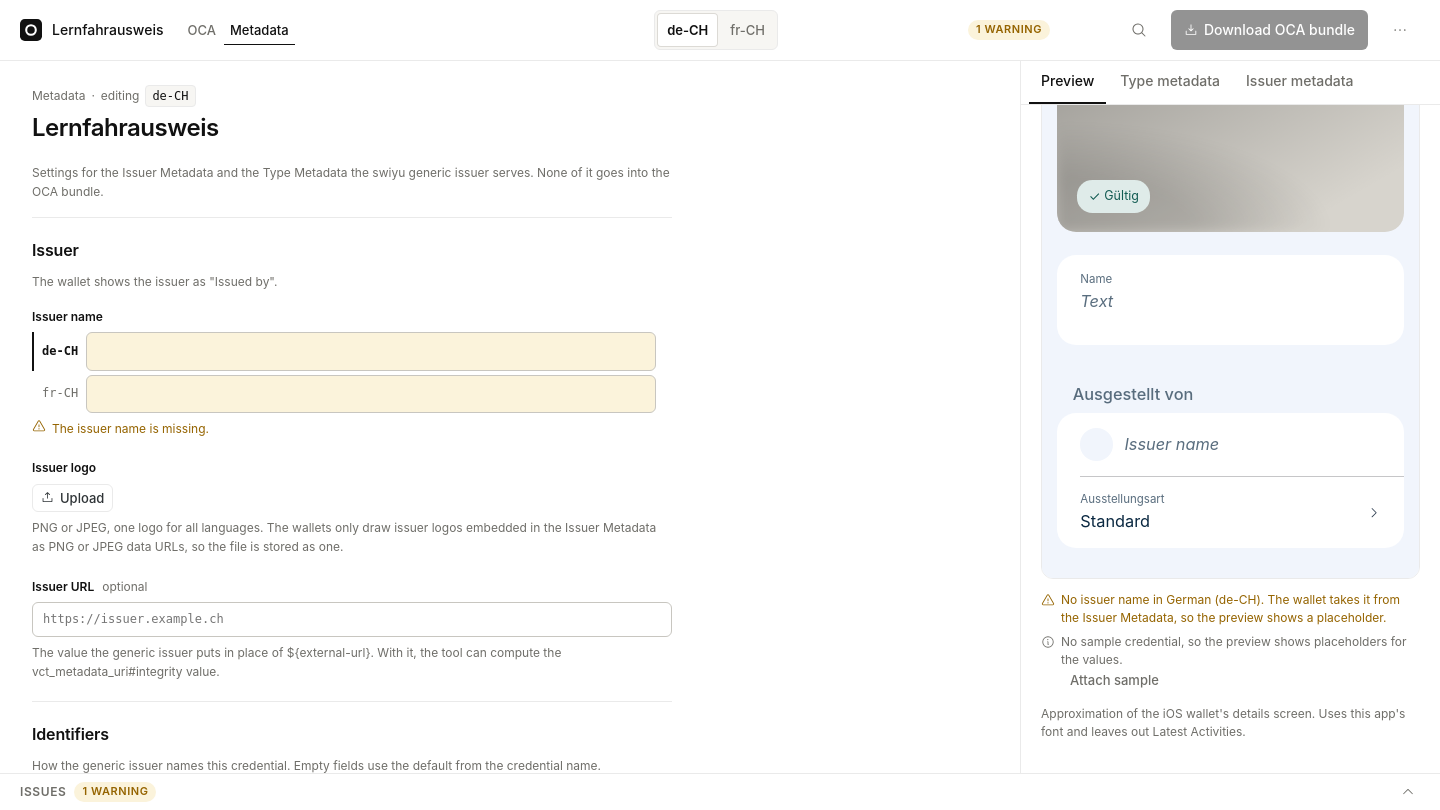
Test case: Metadata page › shows an error for an Issuer URL that is not https, and none when it is empty
(page scrolled)
Expected: the text "must be an https URL" is not shown
Type "http://issuer.example.ch" into the field labelled "Issuer URL optional".
click(352, 620); type("http://issuer.example.ch")  # box left=32, top=602, right=672, bottom=637
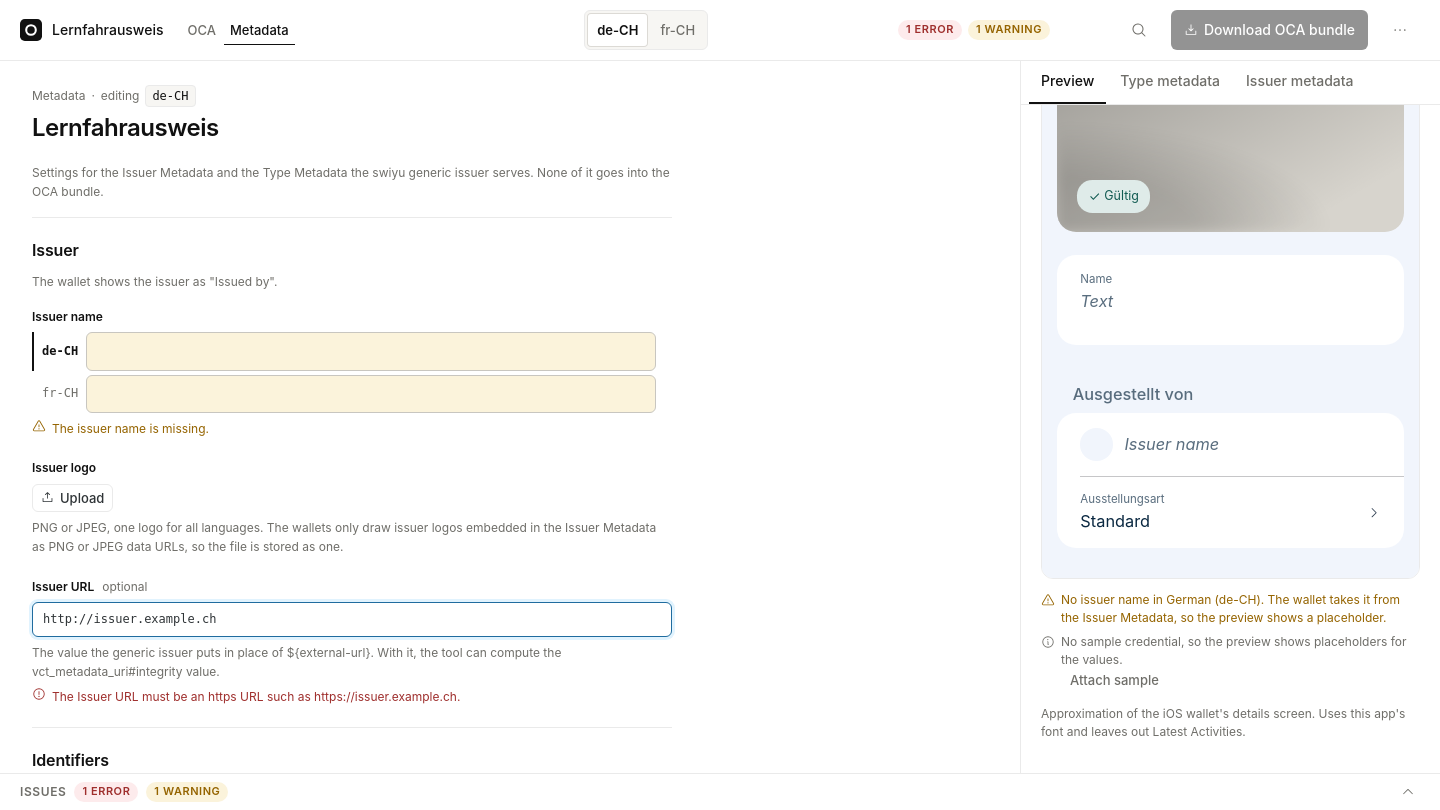
Expected: the text "The Issuer URL must be an https URL such as https://issuer.example.ch." is shown, left=32, top=687, right=460, bottom=704
Clear the field labelled "Issuer URL optional" at (352, 620), box left=32, top=602, right=672, bottom=637
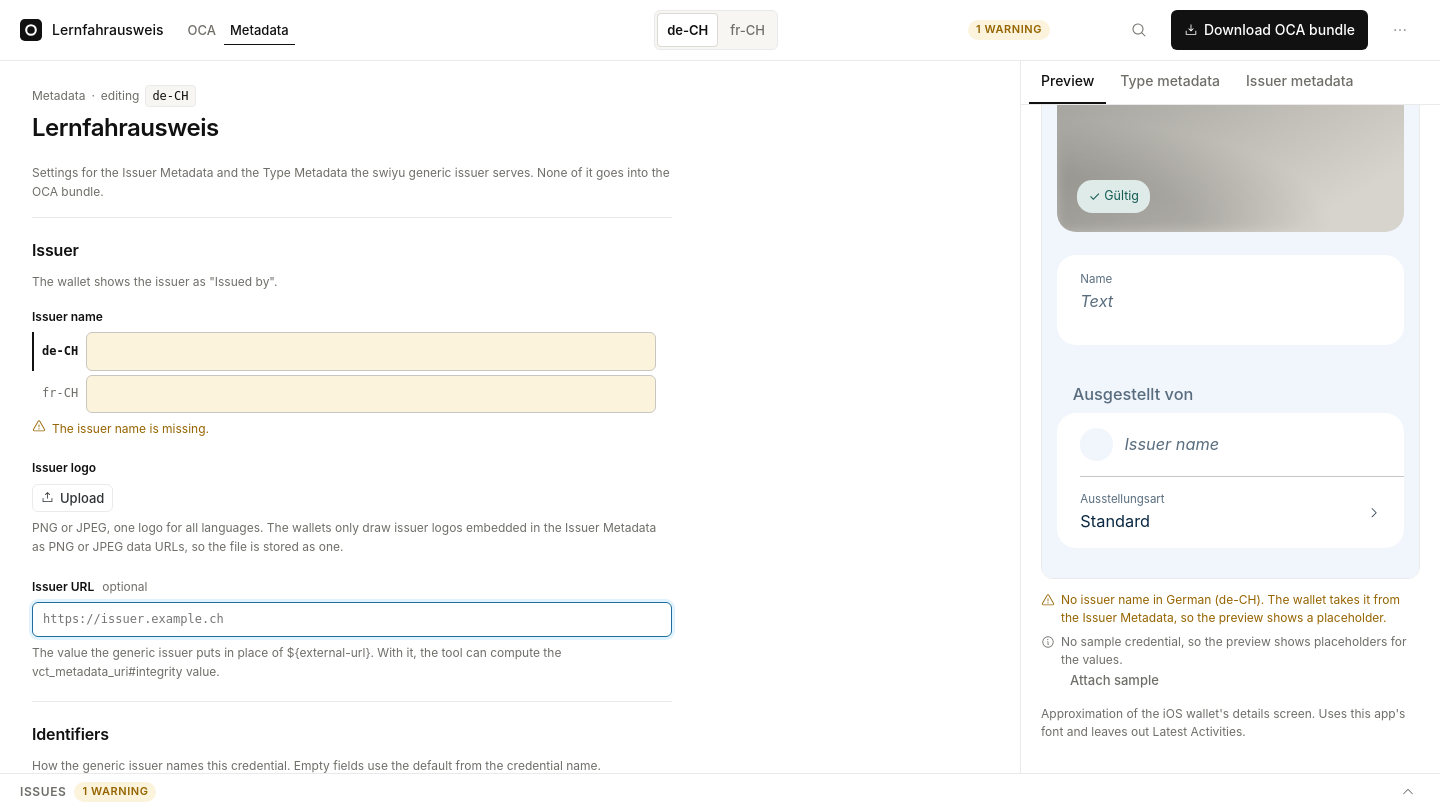
Expected: the text "must be an https URL" is gone
